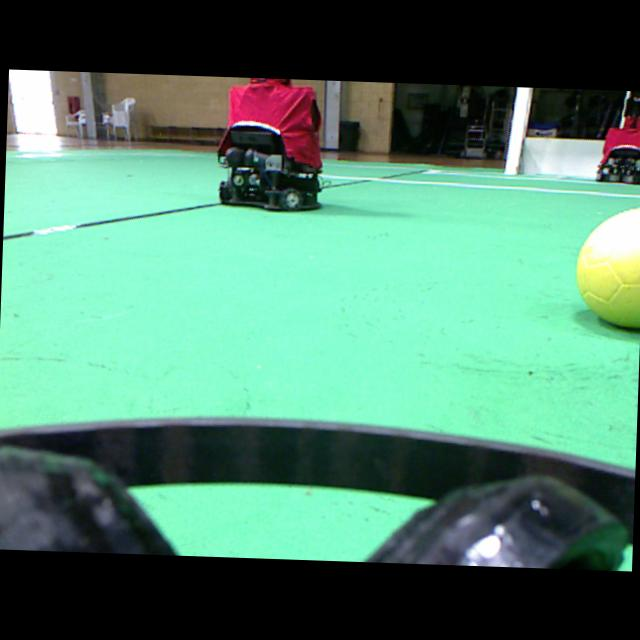ball: (576, 207, 640, 326)
goal: (504, 87, 531, 174)
